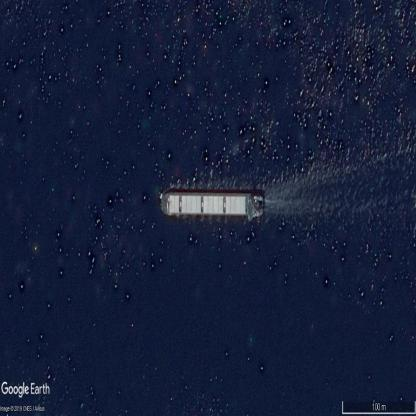ship: (160, 191, 264, 221)
